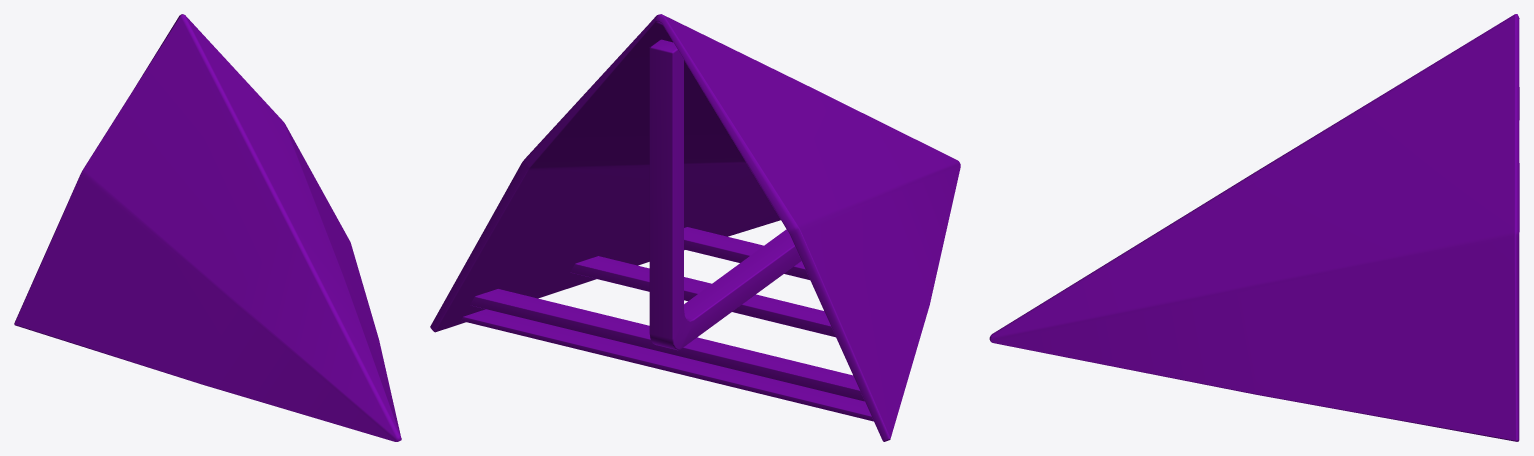
The model's file is SM_Attatchment_Ram1.fbx.
The picture shows the model from 3 angles, left to right: view 1: azimuth 30°, elevation 25°; view 2: azimuth 150°, elevation 25°; view 3: azimuth 270°, elevation 25°; orthographic projection. The views are drawn at different scales.
Visible parts, largest first — view 1: SM_Attatchment_Ram1; view 2: SM_Attatchment_Ram1; view 3: SM_Attatchment_Ram1.
Part boxes in pixels (x1,y1,x2,y2): SM_Attatchment_Ram1: (14, 14, 401, 441); SM_Attatchment_Ram1: (430, 14, 960, 441); SM_Attatchment_Ram1: (989, 14, 1519, 441).
Bounding box in the file's own units: 197 × 152 × 221.
